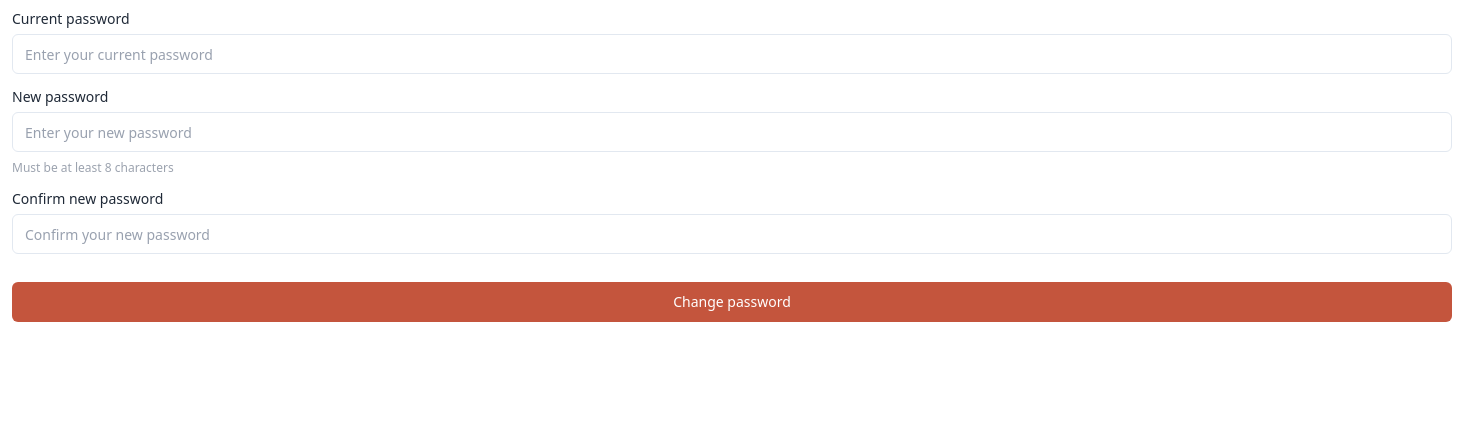
Test: ChangePasswordForm › shows success message after password change
Type "oldpassword123" into the password field labelled "Current password" at (732, 54), box [12,34,1452,74]
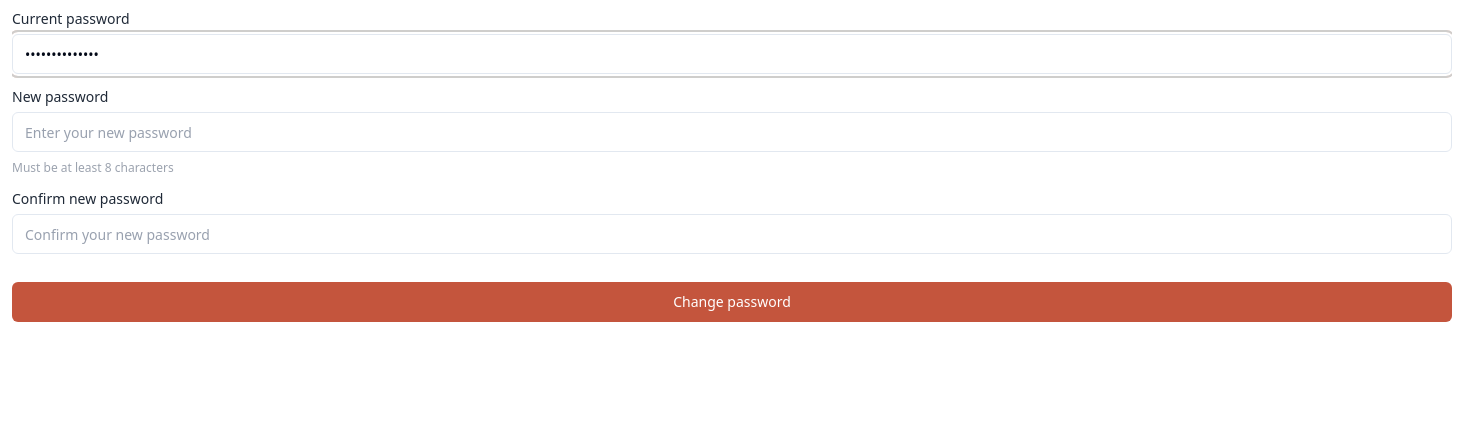
Type "newpassword456" into the password field labelled "New password" at (732, 132), box [12,112,1452,152]
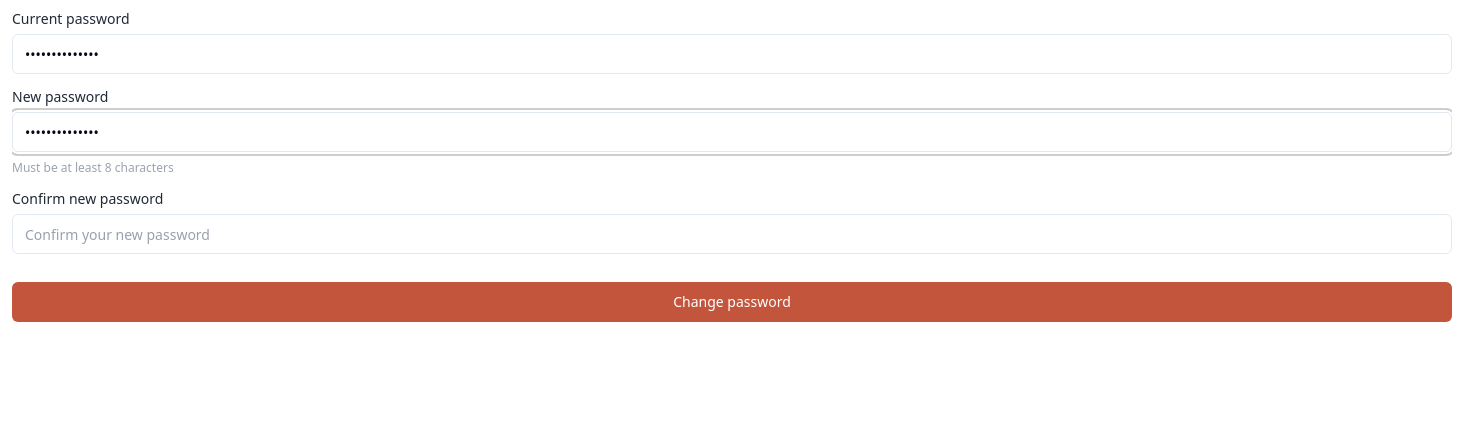
Type "newpassword456" into the password field labelled "Confirm new password" at (732, 234), box [12,214,1452,254]
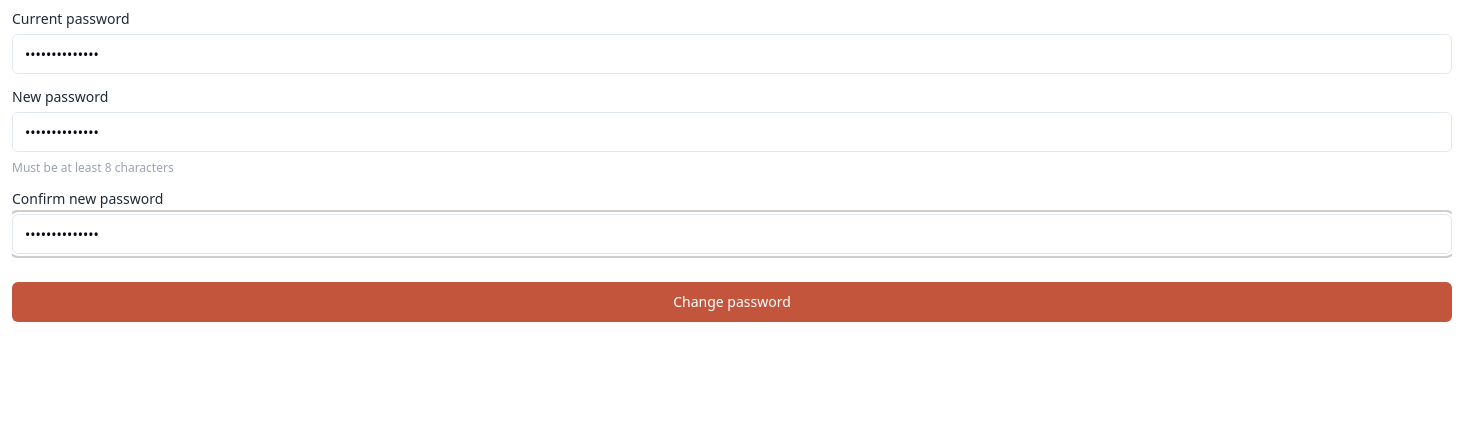
Click the button "Change password" at (732, 302), box [12,282,1452,322]
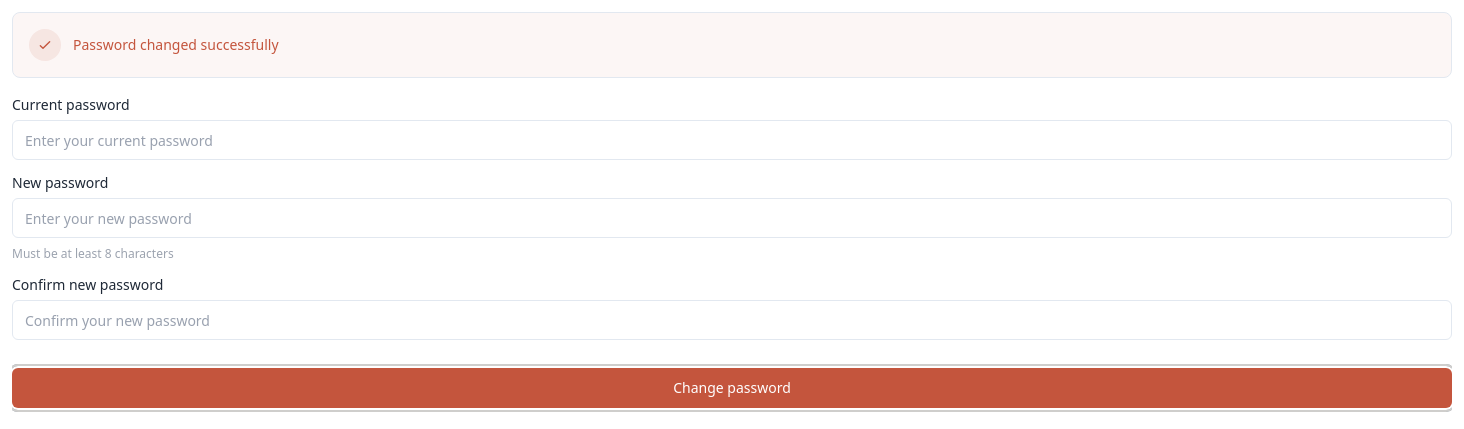
Expected: the text "Password changed successfully" is shown, [73,35,278,55]
